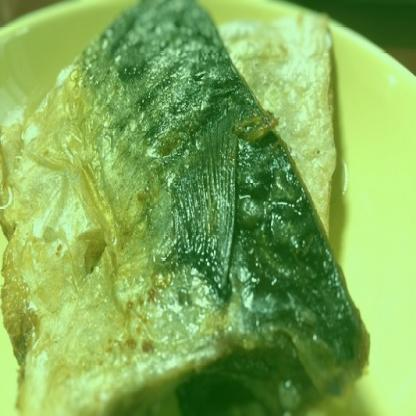Peixe: (0, 0, 375, 416)
